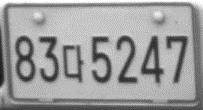2: (115, 34, 138, 83)
3: (38, 36, 58, 82)
4: (140, 34, 164, 83)
5: (91, 36, 111, 82)
7: (164, 34, 188, 84)
8: (14, 34, 35, 82)
다: (62, 44, 84, 83)
